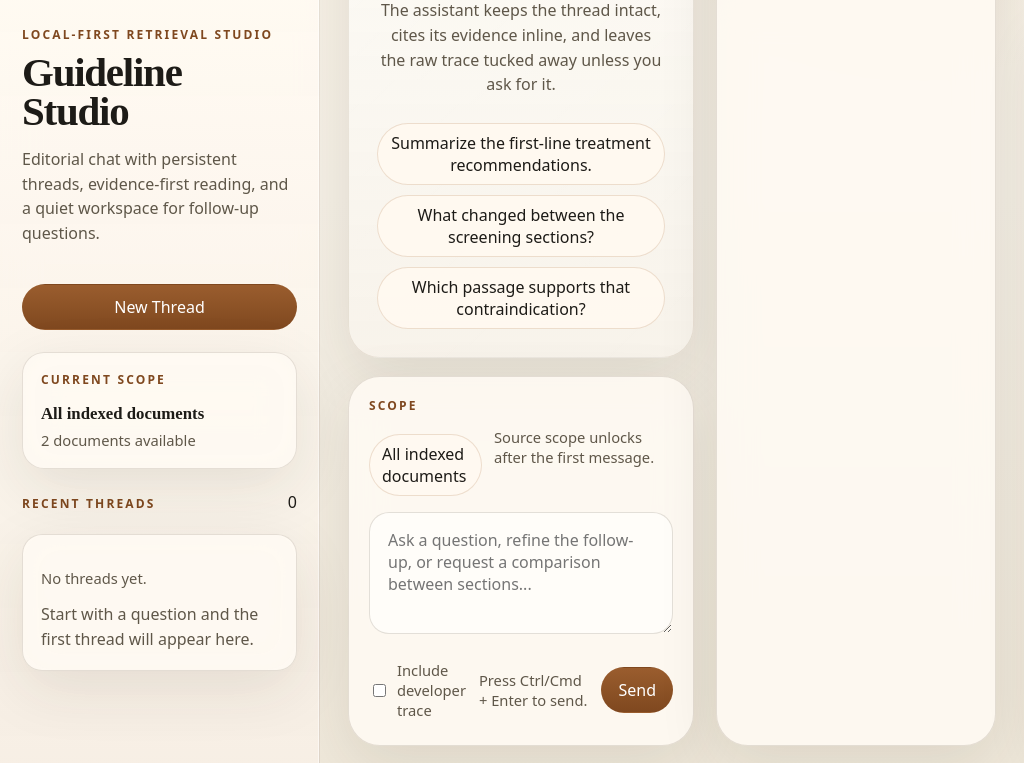
App › creates a thread from the welcome state and sends the first message
This screenshot has width=1024, height=763.
(page scrolled)
Type "Summarize first-line therapy" into the text box named "Message". click: (521, 573)
box: [369,512,673,634]
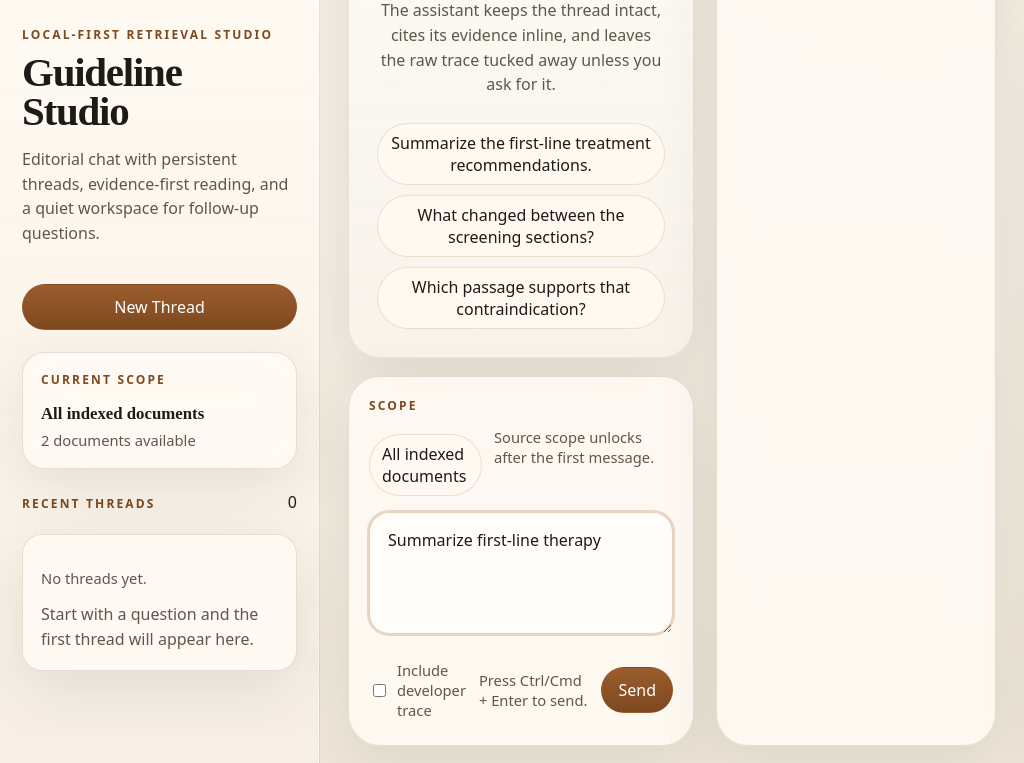
Click the button "Send". click: click(637, 690)
box: [602,667,673,713]
(page scrolled)
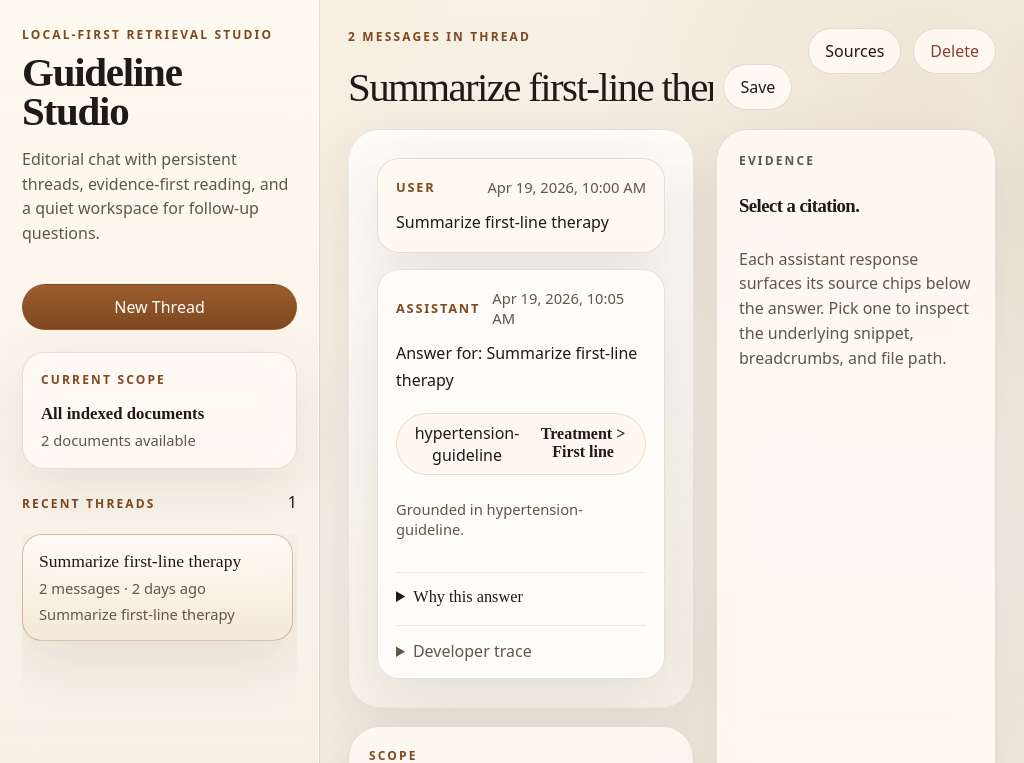
Check: the text "Answer for: Summarize first-line therapy" is shown, box [396,340,646,395]
